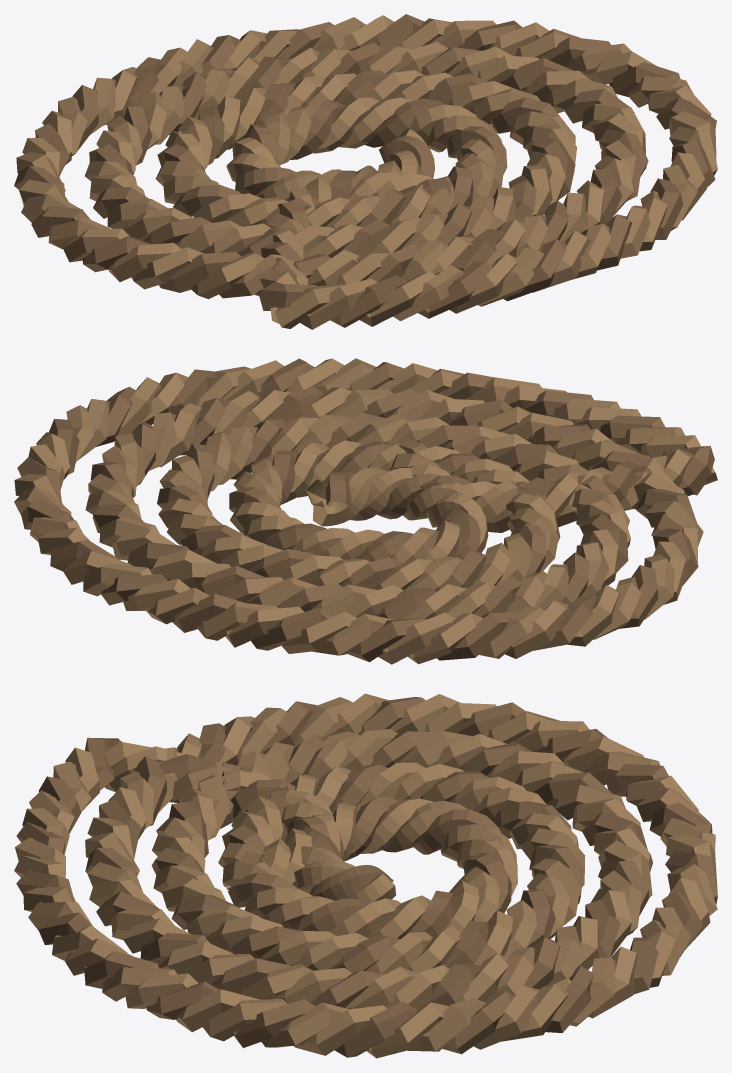
The model's file is coil.gltf.
3 views of the same model, one above another, from view 1: azimuth 30°, elevation 25°; view 2: azimuth 150°, elevation 25°; view 3: azimuth 270°, elevation 25° (orthographic). The views are drawn at different scales.
Visible parts, largest first — view 1: coil; view 2: coil; view 3: coil.
Part boxes in pixels (x1,y1,x2,y2): coil: (14,14,717,329); coil: (14,358,717,664); coil: (14,693,717,1058).
Bounding box in the file's own units: 1.09 × 0.0871 × 0.9609.
